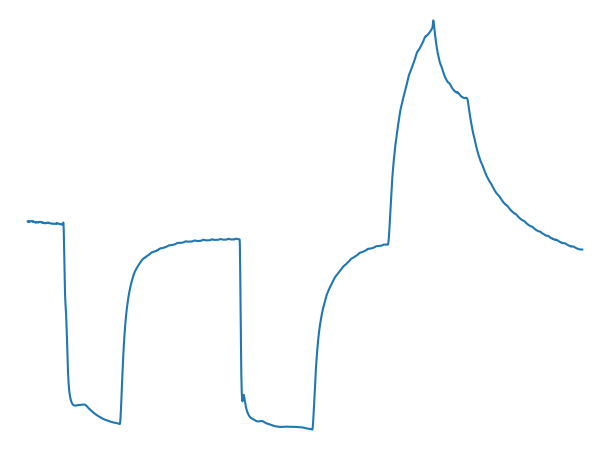decrease: (424, 14, 443, 48), (459, 86, 474, 110), (53, 216, 69, 237), (230, 231, 245, 249)
increase: (376, 235, 394, 250), (112, 413, 125, 429), (303, 419, 316, 433)
